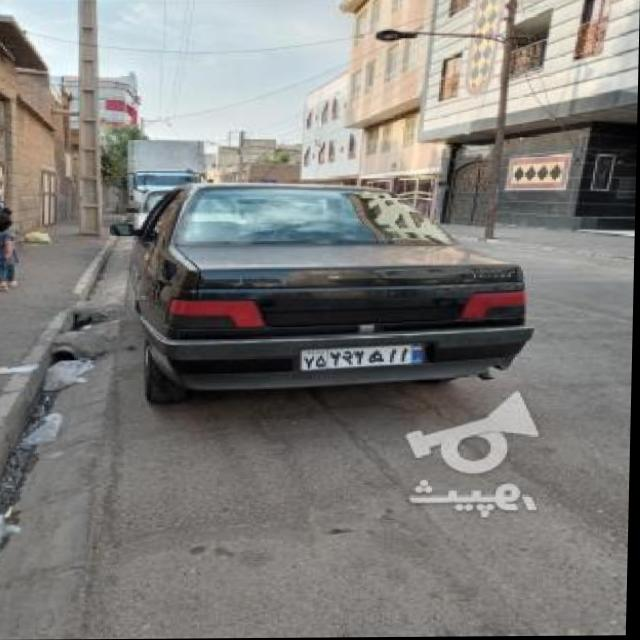licence: (306, 344, 431, 369)
